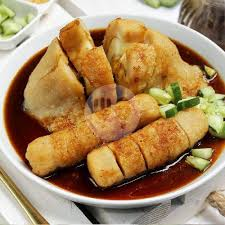Pempek kapal selam: (22, 17, 212, 111)
Pempek lenjer: (23, 93, 160, 180), (87, 101, 214, 190)
